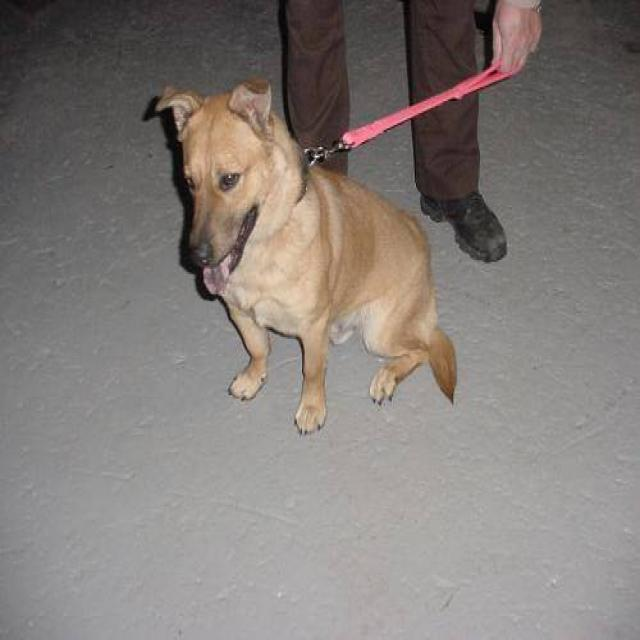Dog: (138, 67, 279, 306)
